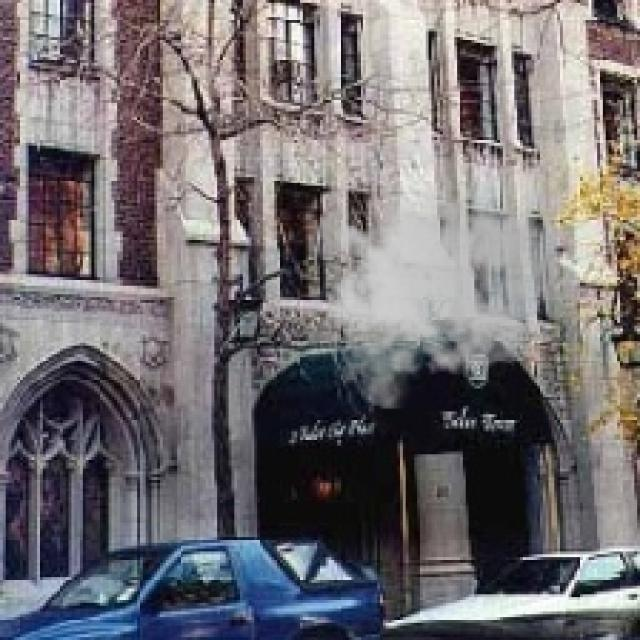Smoke: (308, 162, 563, 408)
